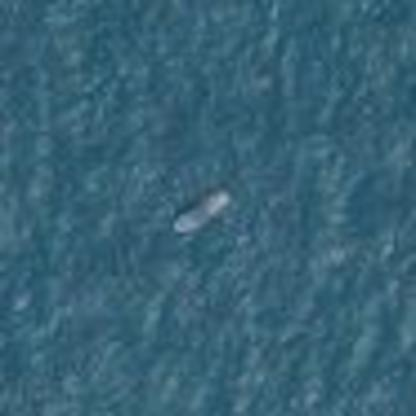ship: (166, 179, 241, 238)
